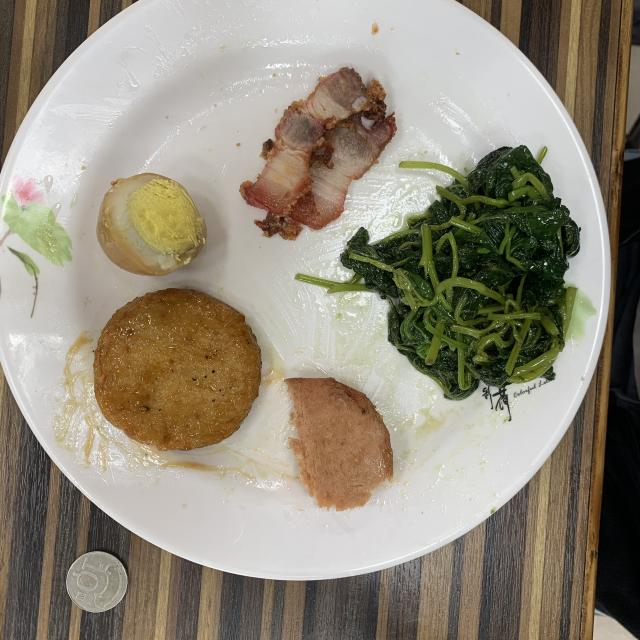Spam: (285, 378, 392, 510)
coin: (66, 551, 128, 612)
fish cake: (94, 289, 261, 450)
red grilled pork: (240, 68, 396, 240)
soy egg: (96, 172, 206, 276)
sweet potato leaves: (298, 145, 580, 400)
